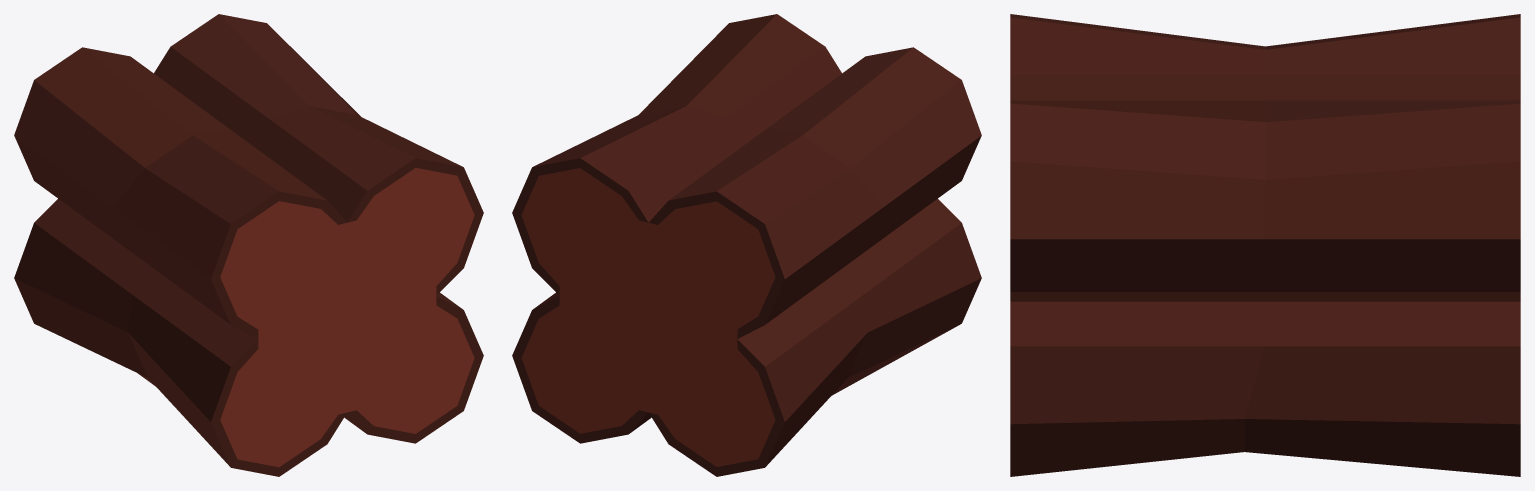
Rendered from Log_6_Red.fbx.
3 renders of one model, left to right at view 1: azimuth 30°, elevation 25°; view 2: azimuth 150°, elevation 25°; view 3: azimuth 270°, elevation 25°, orthographic. The views are drawn at different scales.
Visible parts, largest first — view 1: Log_6_Red; view 2: Log_6_Red; view 3: Log_6_Red.
Part boxes in pixels (left/top/right/bottom): Log_6_Red: left=14, top=14, right=483, bottom=476; Log_6_Red: left=512, top=14, right=981, bottom=476; Log_6_Red: left=1010, top=14, right=1520, bottom=476.
Size of the model in its own units: 160 by 160 by 200.
